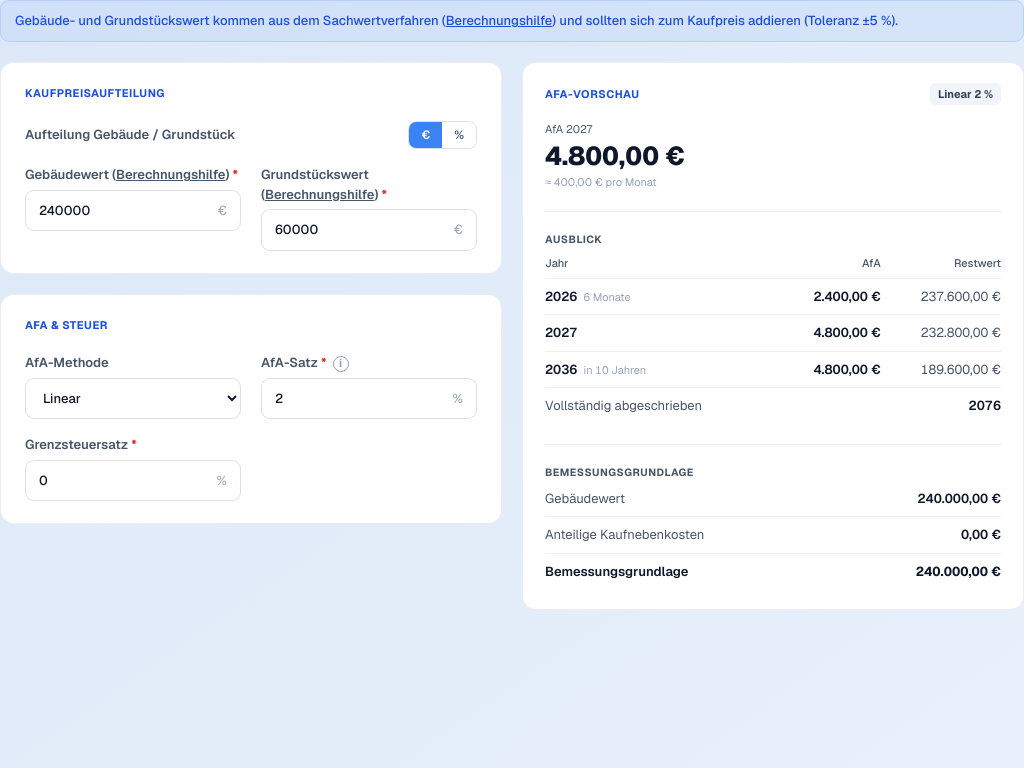
Test: StepAfaSteuer degressive AfA › legt die Satz-Übersicht bei Linear in einen Infotip statt neben das Label
expect the text "2 % ab 1925 · 2,5 % vor 1925 · 3 % Neubau ab 2023" is not shown: met
Click the button named "Info". click: (341, 364)
box: [333,356,349,372]
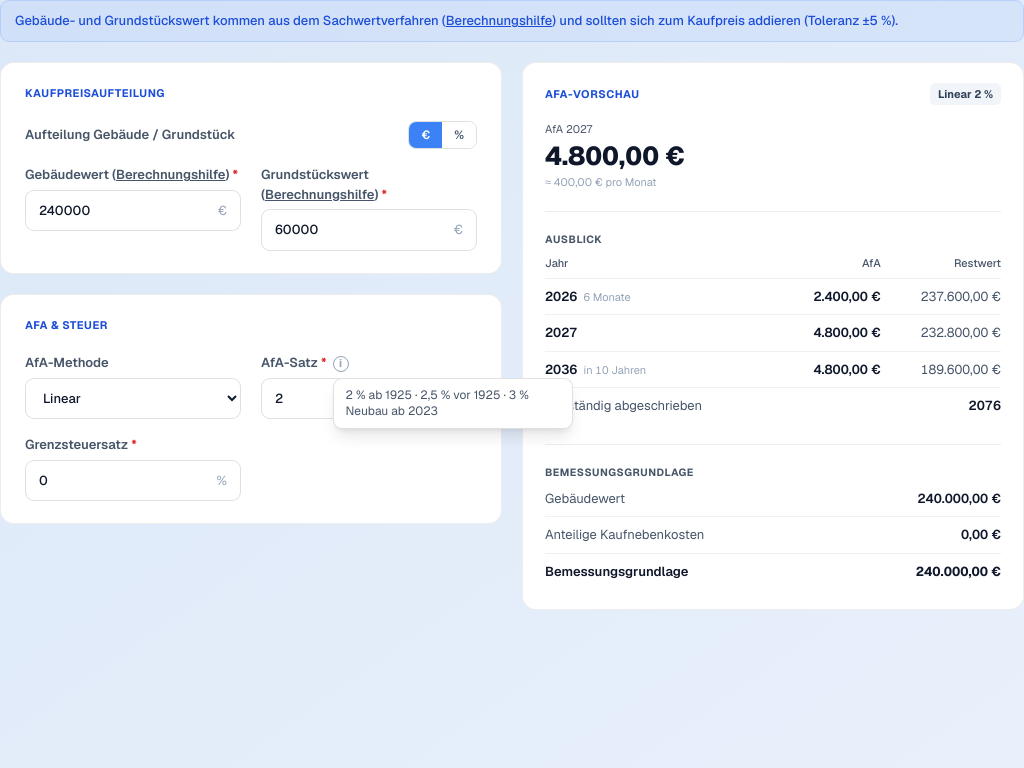
expect the tooltip reads "2 % ab 1925 · 2,5 % vor 1925 · 3 % Neubau ab 2023": met, box [346,386,529,419]
Press Escape
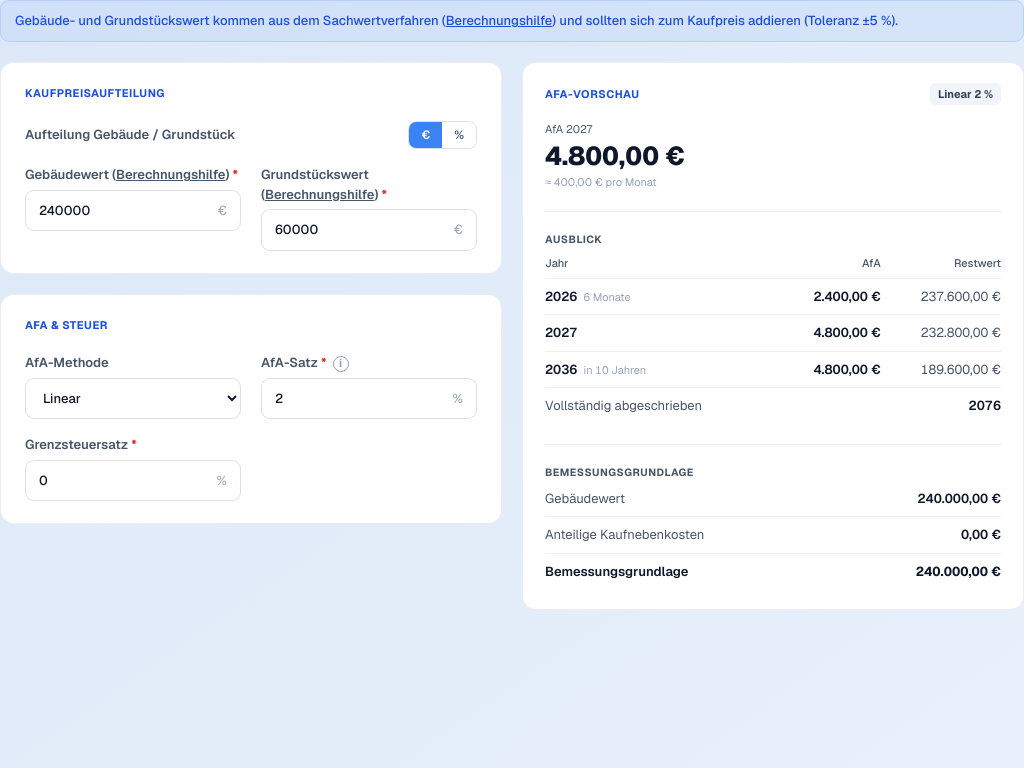
expect the tooltip "2 % ab 1925 · 2,5 % vor 1925 · 3 % Neubau ab 2023" is gone: met
